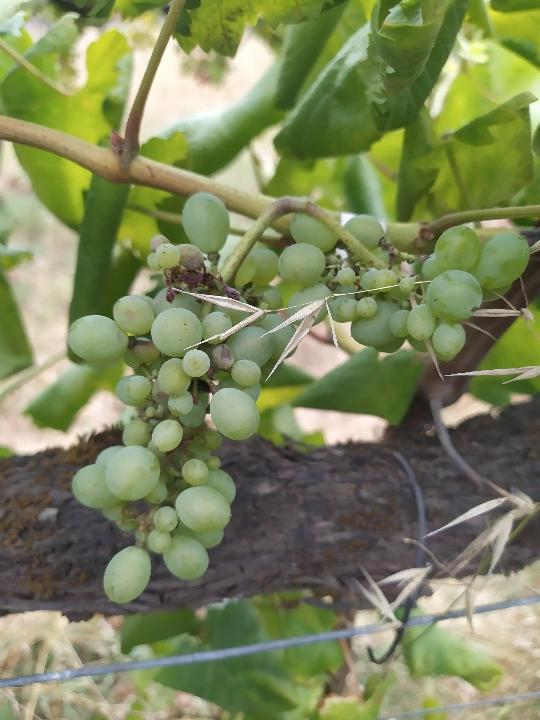grape: (67, 193, 530, 611)
